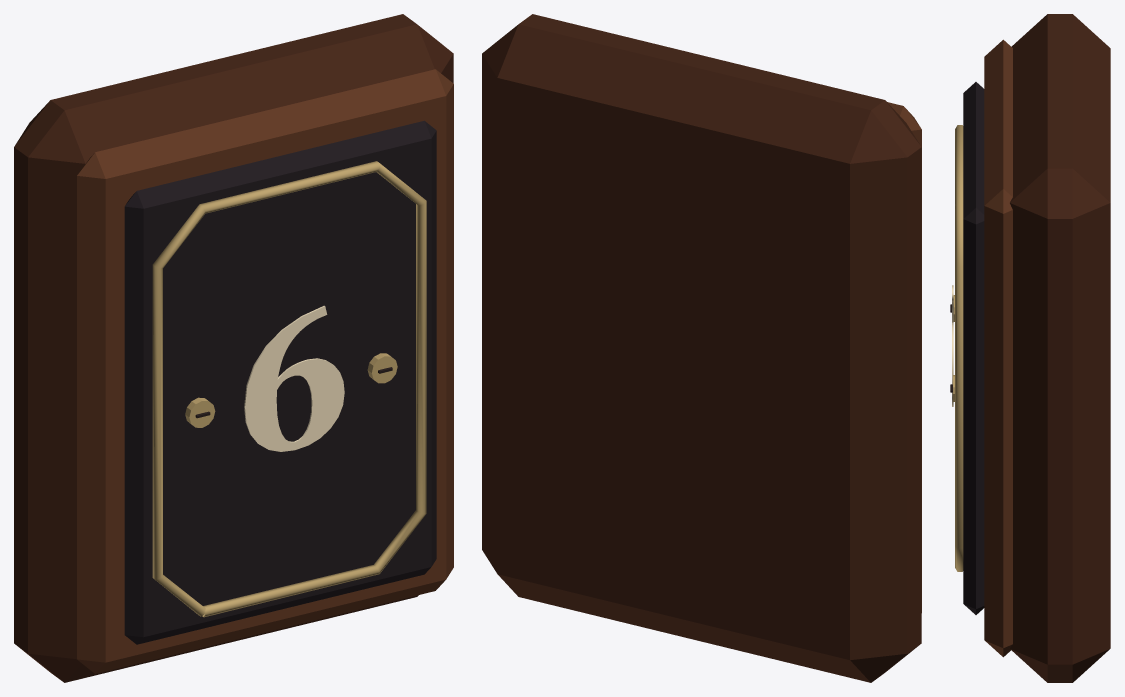
Rendered from BedroomNumber06.glb.
The picture shows the model from 3 angles, left to right: view 1: azimuth 30°, elevation 25°; view 2: azimuth 150°, elevation 25°; view 3: azimuth 270°, elevation 25°; orthographic projection. The views are drawn at different scales.
Parts seen in each view (by area): view 1: EnamelFace.012, BevelledOak.012, OakMoulding.012, GoldCartouche.012, Lettering_6, FlushBrassFixing.025, FlushBrassFixing.024; view 2: BevelledOak.012, OakMoulding.012; view 3: BevelledOak.012, OakMoulding.012, EnamelFace.012, GoldCartouche.012.
Part boxes in pixels (x1,y1,x2,y2): EnamelFace.012: [124, 120, 436, 644]; BevelledOak.012: [14, 14, 453, 682]; OakMoulding.012: [77, 69, 453, 673]; GoldCartouche.012: [152, 161, 426, 617]; Lettering_6: [244, 305, 344, 451]; FlushBrassFixing.025: [367, 353, 397, 383]; FlushBrassFixing.024: [185, 397, 215, 427]; BevelledOak.012: [482, 14, 921, 682]; OakMoulding.012: [887, 102, 921, 612]; BevelledOak.012: [1010, 14, 1110, 682]; OakMoulding.012: [984, 39, 1012, 657]; EnamelFace.012: [963, 82, 984, 614]; GoldCartouche.012: [955, 125, 963, 571].
Bounding box in the file's own units: 1.05 × 1.35 × 0.381.
